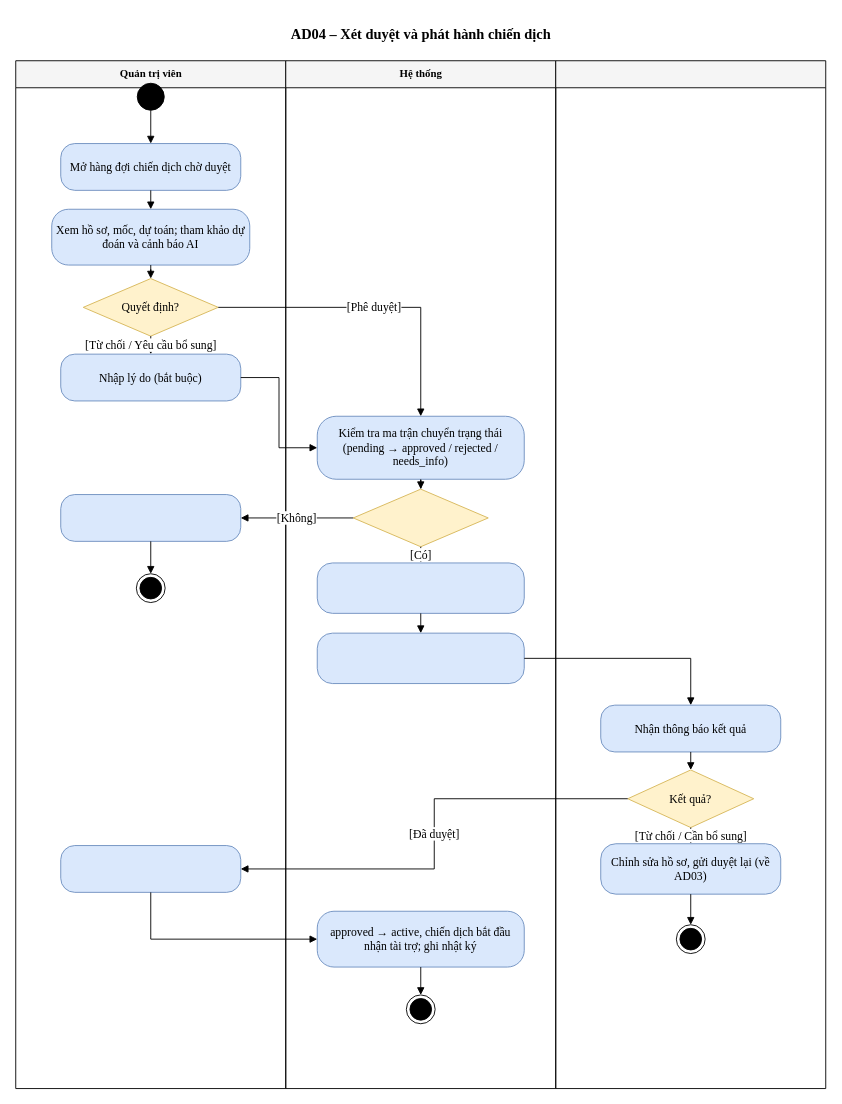
Some shapes in this 842 by 1104 pixel diagram are drawn without their labels. The box of each missing label's shape, as (x1, y1, x2, y2) in pixels:
Chuyển hợp lệ?: (352, 488, 488, 547)
Chủ dự án: (555, 60, 826, 1089)
Cập nhật trạng thái, lưu lý do, ghi nhật ký kiểm toán: (316, 562, 524, 613)
Hiển thị lỗi 409: (60, 494, 241, 541)
Phát hành chiến dịch: (60, 845, 241, 892)
Tạo thông báo trong ứng dụng và gửi email quyết định: (316, 632, 524, 684)
